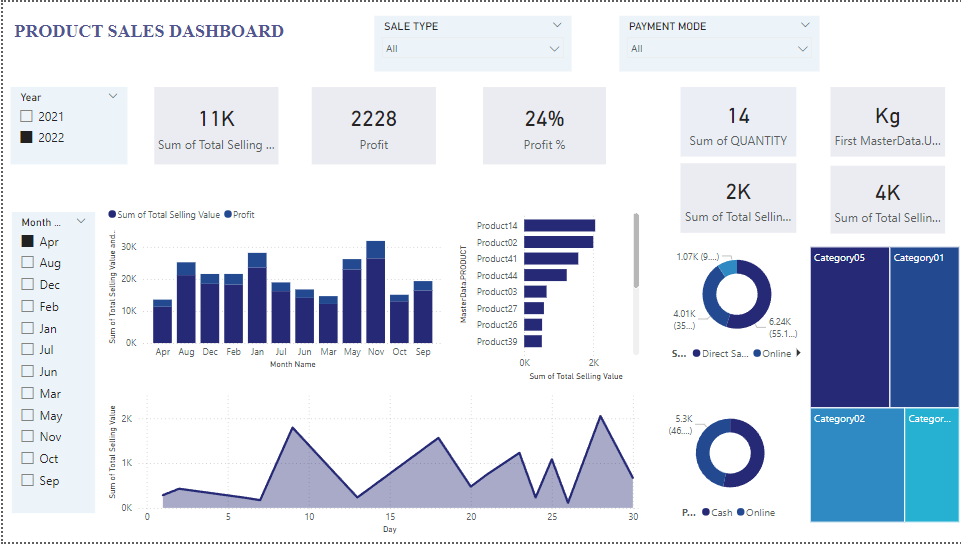

The dashboard page shown, as its layout file describes it:
{"tool":"powerbi","page":{"name":"Page 1","canvas":[1280,720],"ordinal":0},"visuals":[{"type":"slicer","fields":{"Values":["InputData.Year"]},"box":[10,112.9,155.7,102.9],"z":0},{"type":"slicer","fields":{"Values":["InputData.Month Name"]},"box":[11.4,280,111.4,401.4],"z":1000},{"type":"slicer","fields":{"Values":["InputData.PAYMENT MODE"]},"box":[821.4,18.6,267.1,74.3],"z":2000},{"type":"slicer","fields":{"Values":["InputData.SALE TYPE"]},"box":[494.3,18.6,262.9,74.3],"z":3000},{"type":"card","fields":{"Values":["Sum(InputData.Total Selling Value)"]},"box":[201.4,112.9,165.7,102.9],"z":4000},{"type":"card","fields":{"Values":["InputData.Profit"]},"box":[411.4,112.9,165.7,102.9],"z":5000},{"type":"card","fields":{"Values":["InputData.Profit %"]},"box":[640,112.9,164.3,102.9],"z":6000},{"type":"card","fields":{"Values":["Sum(InputData.Total Selling Value)"]},"box":[902.9,215.7,154.3,92.9],"z":7000},{"type":"card","fields":{"Values":["Sum(InputData.Total Selling Value)"]},"box":[1102.9,218.6,152.9,90],"z":8000},{"type":"card","fields":{"Values":["Sum(InputData.QUANTITY)"]},"box":[902.9,112.9,154.3,92.9],"z":9000},{"type":"card","fields":{"Values":["Min(InputData.MasterData.UOM)"]},"box":[1102.9,112.9,152.9,92.9],"z":10000},{"type":"columnChart","fields":{"Category":["InputData.Month Name"],"Y":["Sum(InputData.Total Selling Value)","InputData.Profit"]},"box":[134.3,262.9,455.7,231.4],"z":11000},{"type":"clusteredBarChart","fields":{"Y":["Sum(InputData.Total Selling Value)"],"Category":["InputData.MasterData.PRODUCT"]},"box":[602.9,268.6,250,241.4],"z":12000},{"type":"areaChart","fields":{"Y":["Sum(InputData.Total Selling Value)"],"Category":["InputData.Day"]},"box":[134.3,511.4,720,202.9],"z":13000},{"type":"donutChart","fields":{"Y":["Sum(InputData.Total Selling Value)"],"Category":["InputData.SALE TYPE"]},"box":[887.1,321.4,184.3,165.7],"z":14000},{"type":"donutChart","fields":{"Y":["Sum(InputData.Total Selling Value)"],"Category":["InputData.PAYMENT MODE"]},"box":[878.6,532.9,182.9,165.7],"z":15000},{"type":"treemap","fields":{"Group":["InputData.MasterData.CATEGORY"],"Values":["Sum(InputData.Total Selling Value)"]},"box":[1071.4,321.4,208.6,377.1],"z":16000},{"type":"textbox","box":[10,20,381.4,72.9],"z":16001}]}

Visuals, with their boxes in screenshot pixels (x1, y1, x2, y2), scaled from the page's 1280x720 canvas onto the 961x545 screenshot:
slicer - InputData.Year: detection(8, 85, 124, 163)
slicer - InputData.Month Name: detection(9, 212, 92, 516)
slicer - InputData.PAYMENT MODE: detection(617, 14, 817, 70)
slicer - InputData.SALE TYPE: detection(371, 14, 568, 70)
card - Sum(InputData.Total Selling Value): detection(151, 85, 276, 163)
card - InputData.Profit: detection(309, 85, 433, 163)
card - InputData.Profit %: detection(480, 85, 604, 163)
card - Sum(InputData.Total Selling Value): detection(678, 163, 794, 234)
card - Sum(InputData.Total Selling Value): detection(828, 165, 943, 234)
card - Sum(InputData.QUANTITY): detection(678, 85, 794, 156)
card - Min(InputData.MasterData.UOM): detection(828, 85, 943, 156)
columnChart - InputData.Month Name x Sum(InputData.Total Selling Value): detection(101, 199, 443, 374)
clusteredBarChart - Sum(InputData.Total Selling Value) x InputData.MasterData.PRODUCT: detection(453, 203, 640, 386)
areaChart - Sum(InputData.Total Selling Value) x InputData.Day: detection(101, 387, 641, 541)
donutChart - Sum(InputData.Total Selling Value) x InputData.SALE TYPE: detection(666, 243, 804, 369)
donutChart - Sum(InputData.Total Selling Value) x InputData.PAYMENT MODE: detection(660, 403, 797, 529)
treemap - InputData.MasterData.CATEGORY x Sum(InputData.Total Selling Value): detection(804, 243, 960, 529)
textbox: detection(8, 15, 294, 70)
